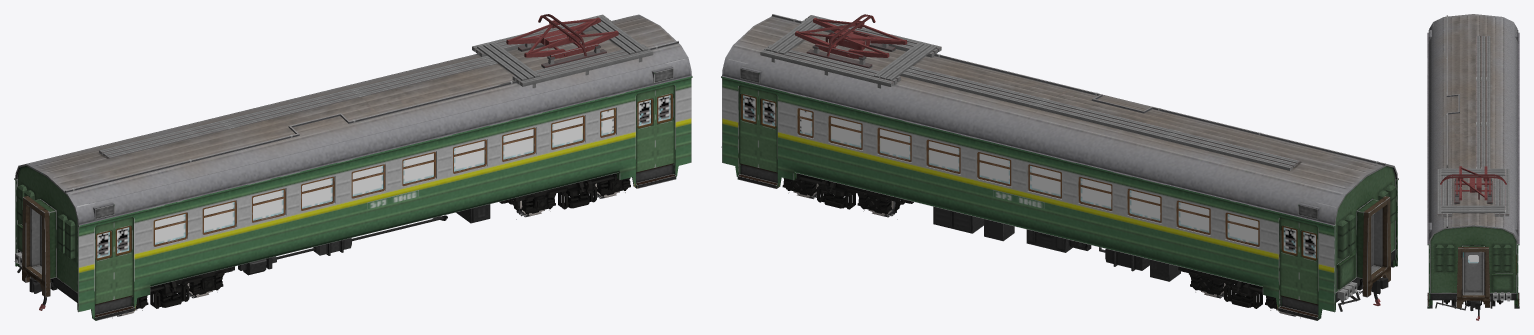
The model's file is mvp_ir_er2m_reversed.obj.
3 renders of one model, left to right at view 1: azimuth 30°, elevation 25°; view 2: azimuth 150°, elevation 25°; view 3: azimuth 270°, elevation 25°, orthographic. The views are drawn at different scales.
Visible parts, largest first — view 1: FRAME_er2t, BOGEY_REAR_er2t, BOGEY_FRONT_er2t, DOOR_2_TL_0.531_X_CG_DrR_EXTERNAL_er2t, DOOR_4_TL_0.531_X_CG_DrR_EXTERNAL_er2t, DOOR_3_TL_-0.531_X_CG_DrR_EXTERNAL_er2t, DOOR_1_TL_-0.531_X_CG_DrR_EXTERNAL_er2t; view 2: FRAME_er2t, BOGEY_REAR_er2t, BOGEY_FRONT_er2t, DOOR_8_TL_0.531_X_CG_DrL_EXTERNAL_er2t, DOOR_6_TL_0.531_X_CG_DrL_EXTERNAL_er2t, DOOR_7_TL_-0.531_X_CG_DrL_EXTERNAL_er2t, DOOR_5_TL_-0.531_X_CG_DrL_EXTERNAL_er2t; view 3: FRAME_er2t, DOOR_14_TOGGLE_CONNECTING_er2t, WIDGET_1_TL_1.3275_Y_CG_PT_LABEL_^, WIDGET_2_TL_1.3275_Y_CG_PT_LABEL_^, BOGEY_REAR_er2t, WIDGET_5_CG_PT_LABEL_^.
Part boxes in pixels (<box>): FRAME_er2t: <box>14,14,692,320</box>; BOGEY_REAR_er2t: <box>499,173,630,214</box>; BOGEY_FRONT_er2t: <box>135,266,234,309</box>; DOOR_2_TL_0.531_X_CG_DrR_EXTERNAL_er2t: <box>114,217,133,299</box>; DOOR_4_TL_0.531_X_CG_DrR_EXTERNAL_er2t: <box>655,85,674,167</box>; DOOR_3_TL_-0.531_X_CG_DrR_EXTERNAL_er2t: <box>636,89,655,172</box>; DOOR_1_TL_-0.531_X_CG_DrR_EXTERNAL_er2t: <box>95,221,113,304</box>; FRAME_er2t: <box>721,14,1398,320</box>; BOGEY_REAR_er2t: <box>782,173,913,214</box>; BOGEY_FRONT_er2t: <box>1178,266,1278,309</box>; DOOR_8_TL_0.531_X_CG_DrL_EXTERNAL_er2t: <box>739,85,758,167</box>; DOOR_6_TL_0.531_X_CG_DrL_EXTERNAL_er2t: <box>1279,217,1298,299</box>; DOOR_7_TL_-0.531_X_CG_DrL_EXTERNAL_er2t: <box>758,89,777,172</box>; DOOR_5_TL_-0.531_X_CG_DrL_EXTERNAL_er2t: <box>1299,221,1318,304</box>; FRAME_er2t: <box>1427,14,1519,320</box>; DOOR_14_TOGGLE_CONNECTING_er2t: <box>1463,252,1483,292</box>; WIDGET_1_TL_1.3275_Y_CG_PT_LABEL_^: <box>1440,174,1506,184</box>; WIDGET_2_TL_1.3275_Y_CG_PT_LABEL_^: <box>1460,178,1486,197</box>; BOGEY_REAR_er2t: <box>1443,300,1503,305</box>; WIDGET_5_CG_PT_LABEL_^: <box>1459,166,1487,186</box>.
Bounding box in the file's own units: 21.05 × 5.24 × 3.67.
